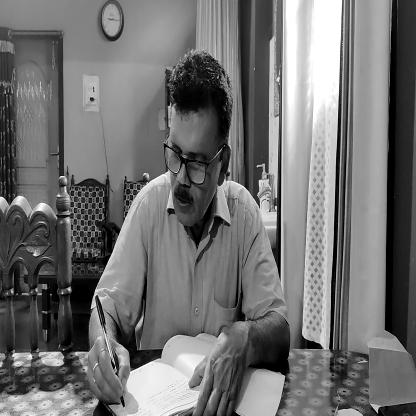Normal: (162, 51, 229, 227)
